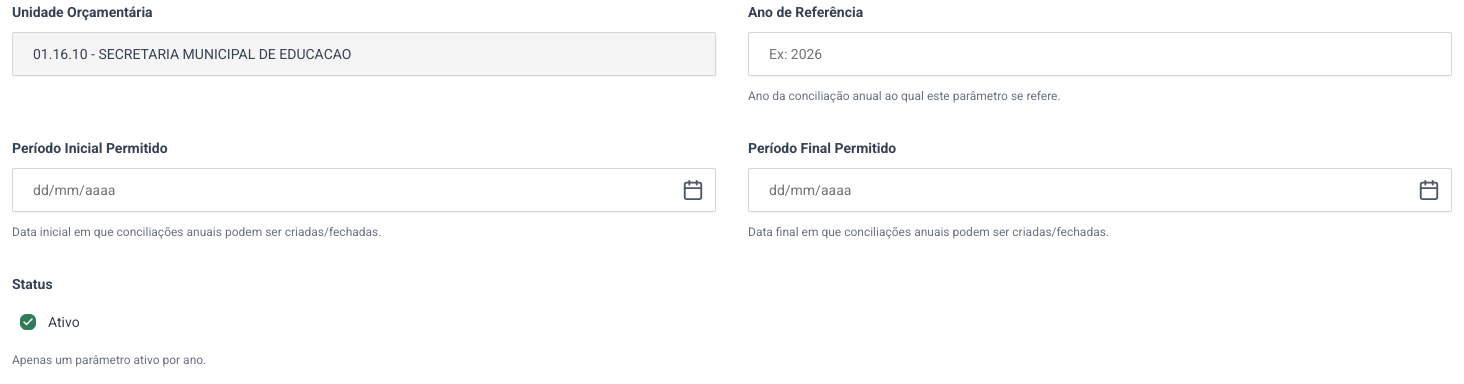
Test case: ParametroConciliacaoForm › exibe mensagem específica quando a data final é anterior à inicial
Type "30/04/2026" into the field with placeholder "dd/mm/aaaa" below "Período Inicial Permitido". click: (364, 190)
box: [12,168,716,212]
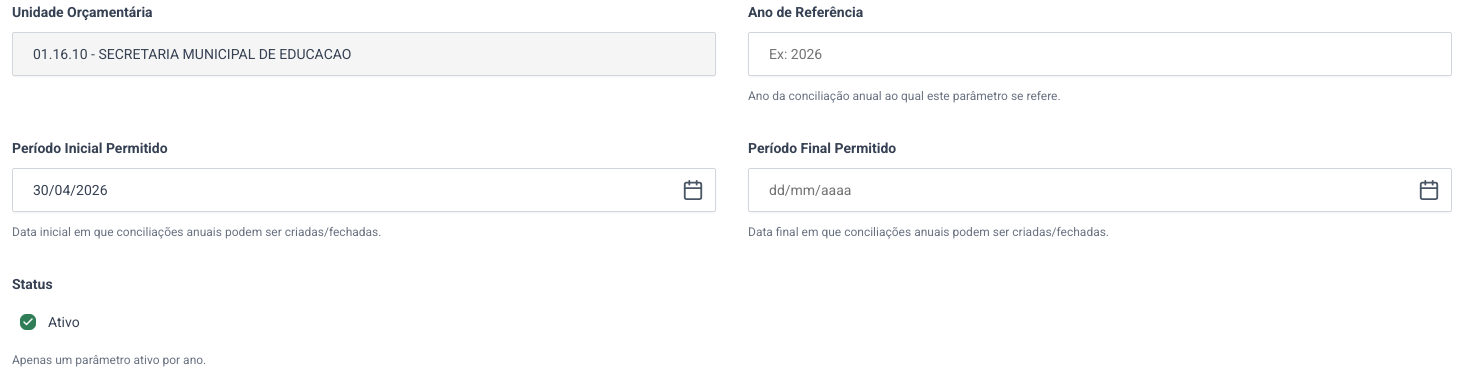
Type "01/04/2026" into the field with placeholder "dd/mm/aaaa". click: (1100, 190)
box: [748,168,1452,212]
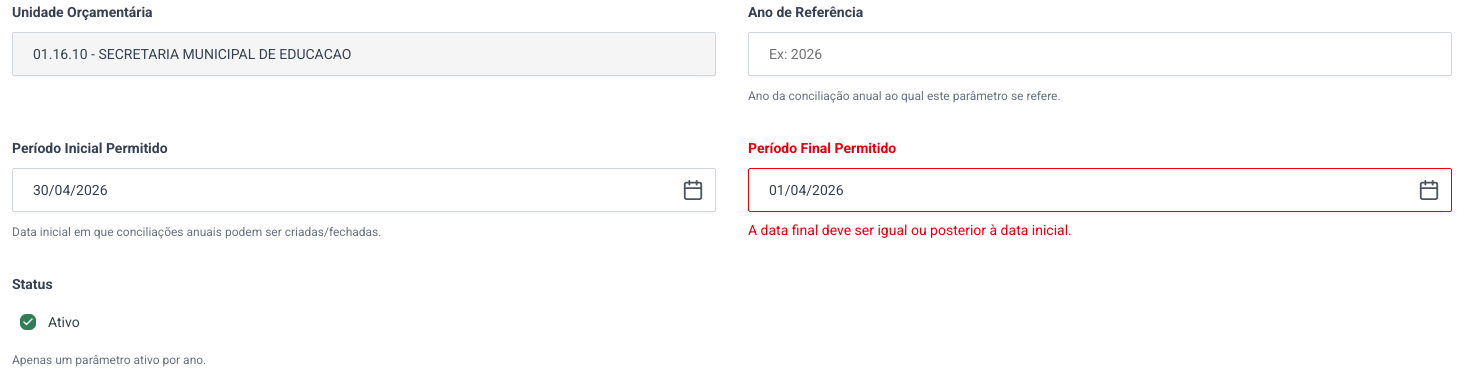
Expected: the text "A data final deve ser igual ou posterior à data inicial." is shown once, [748,222,1072,238]
